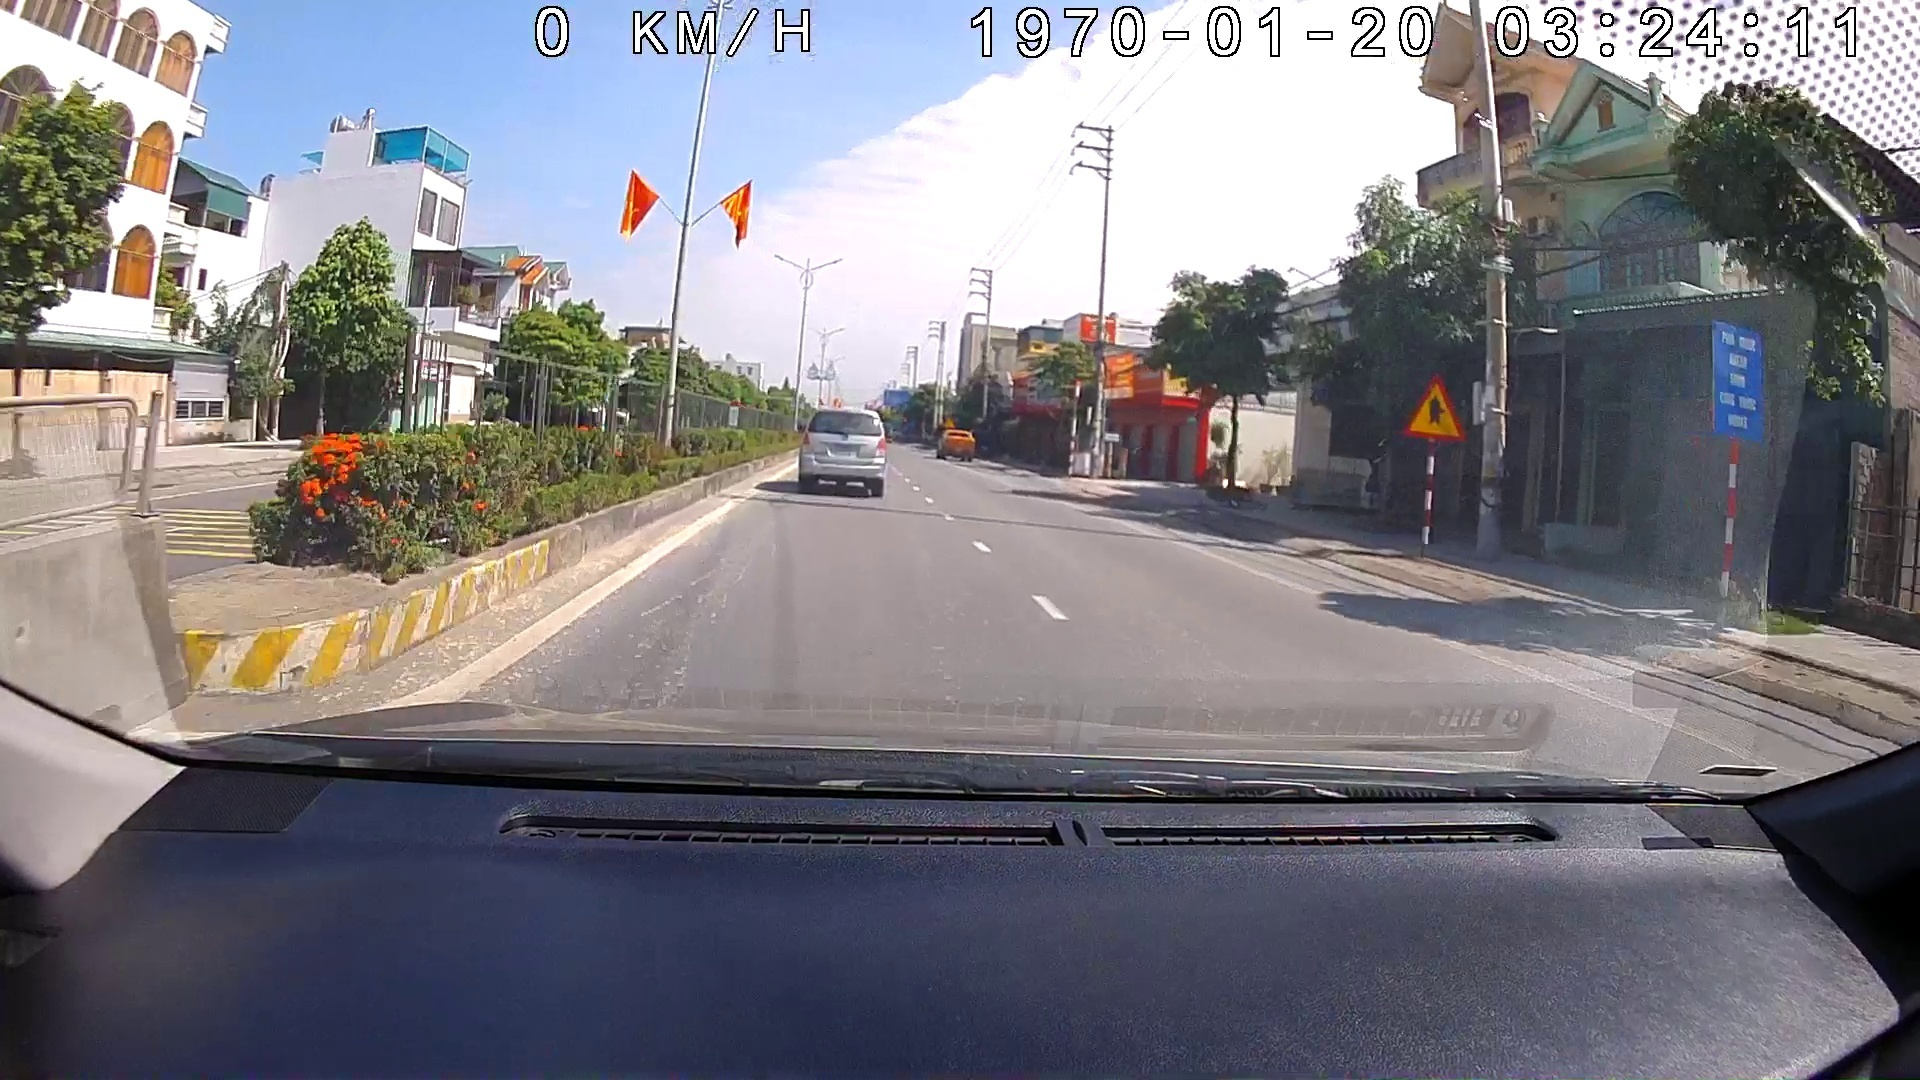Giao nhau voi duong khong uu tien: (1400, 373, 1466, 440)
